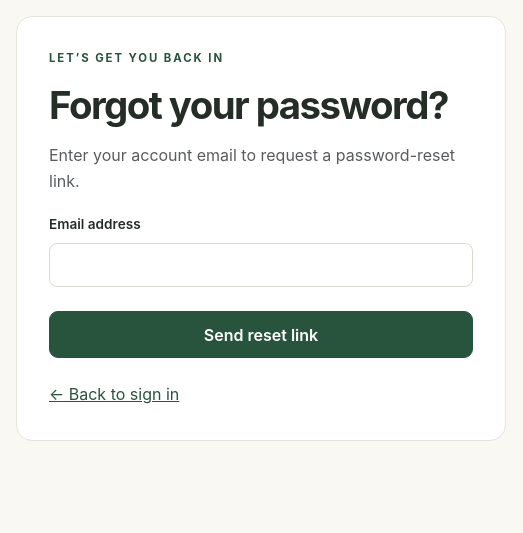
Test: forgot password shows email-delivery configuration errors honestly
Type "admin@example.com" into the field labelled "Email address" at x=261, y=265, box [49,243,473,287]
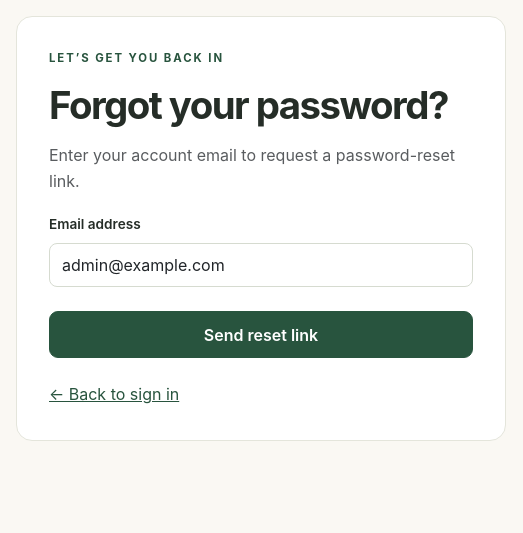
Click the button "Send reset link" at x=261, y=335, box [49,311,473,358]
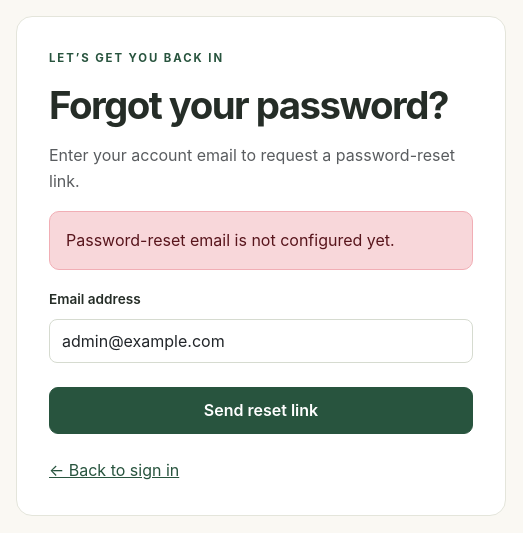
Expected: the message shows "not configured", [66,230,395,250]
